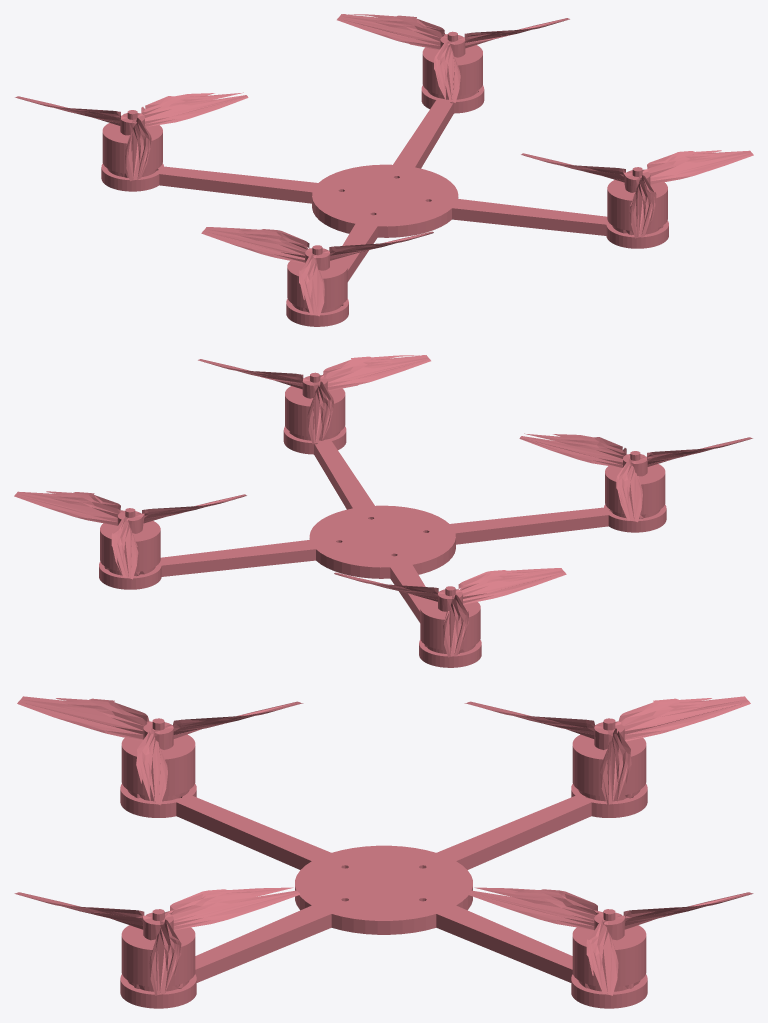
File: vampire.glb
3 views of the same model, one above another, from view 1: azimuth 30°, elevation 25°; view 2: azimuth 150°, elevation 25°; view 3: azimuth 270°, elevation 25° (orthographic). The views are drawn at different scales.
Visible parts, largest first — view 1: body; view 2: body; view 3: body.
Part boxes in pixels (<box>): body: <box>15,14,753,326</box>; body: <box>14,355,752,667</box>; body: <box>14,696,753,1008</box>.
Size of the model in its own units: 0.2752 by 0.0351 by 0.2902.
